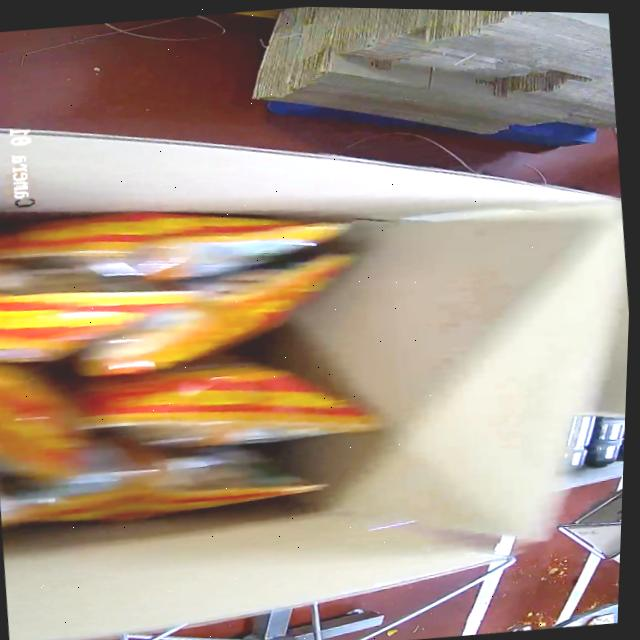FRENCH_CHEESE: (0, 162, 413, 551)
